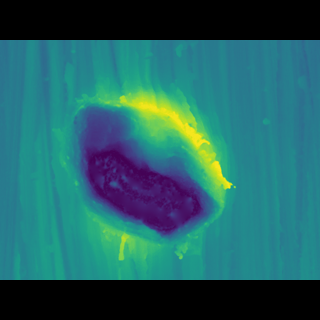Loch: (51, 96, 240, 234)
